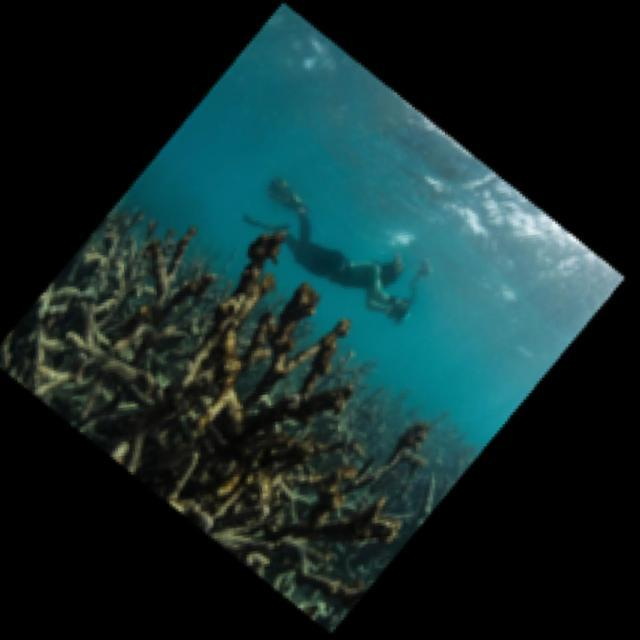Dead Coral: (183, 310, 423, 618), (61, 256, 256, 424)
